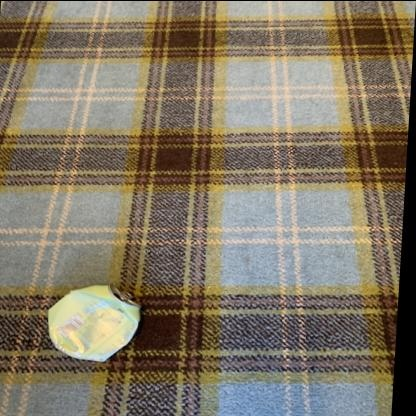trash: (48, 285, 139, 361)
